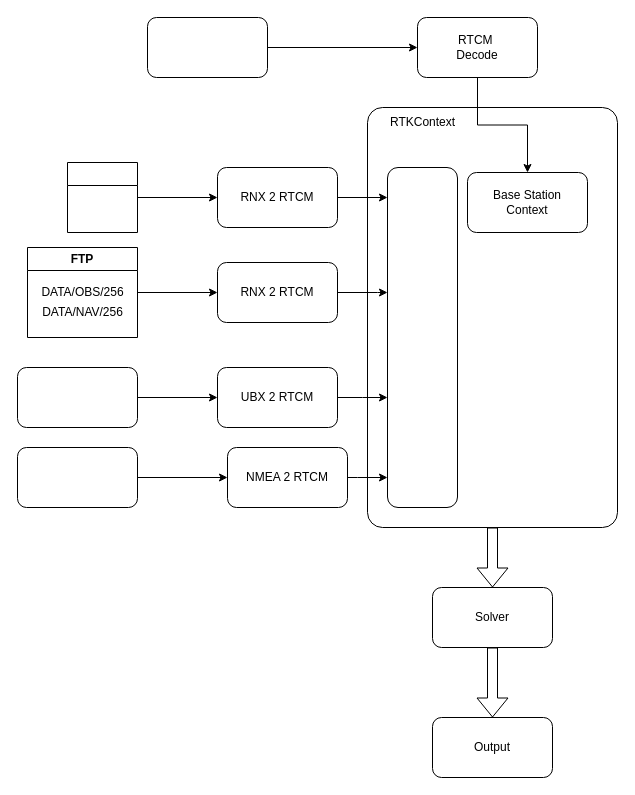
This 635x795 diagram has some shape labels left out. The shapes that lost their labels are listed below. From the top down, each one's centre as x and y in pixels, then its label:
point (207, 47): rtk-serv
point (102, 197): RINEX
point (422, 337): Rover Context
point (77, 397): UBLOX
point (77, 477): NMEA
